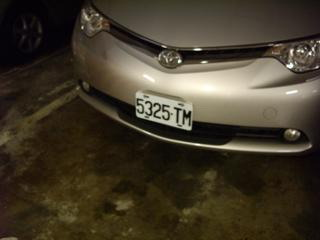plate: (135, 90, 195, 133)
